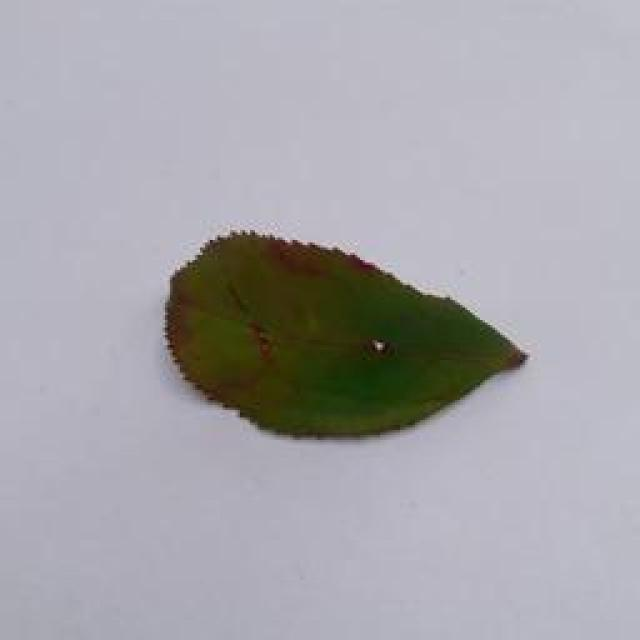Red Leaf Spot: (143, 212, 539, 473)
